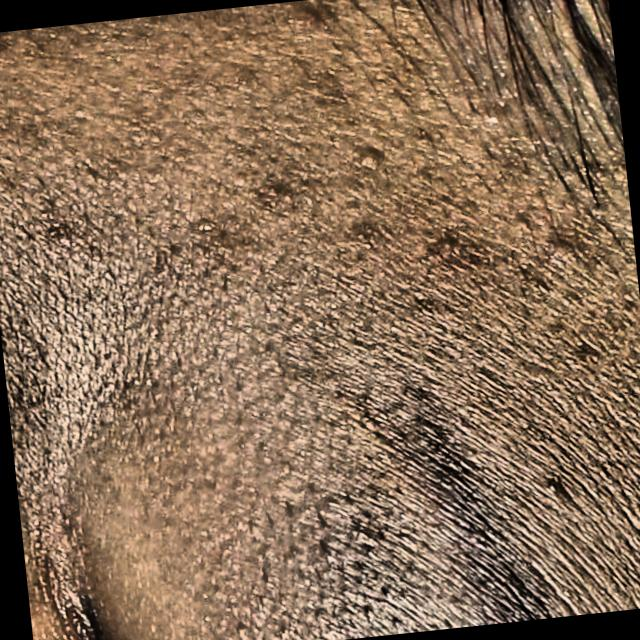whiteheads: (350, 144, 387, 178), (538, 473, 567, 507), (186, 213, 222, 240), (476, 107, 508, 133), (226, 170, 250, 194), (147, 131, 163, 150)
